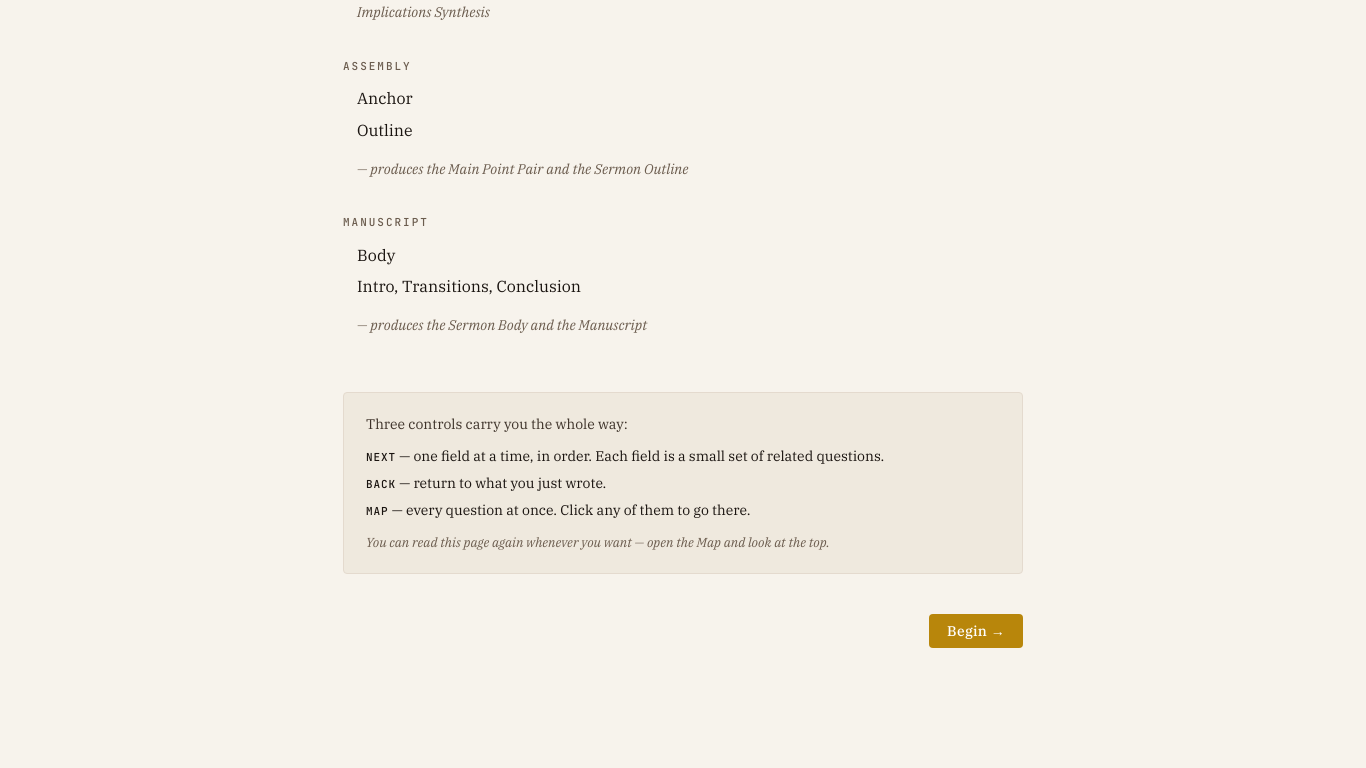
Test case: Track D ⑤ pin — threshold lifecycle › dismissing sermon-start persists thresholds_seen and stays gone on remount (#2)
(page scrolled)
Click the button "Begin →" at (976, 631), box [929,614,1023,648]
Wait 900 ms
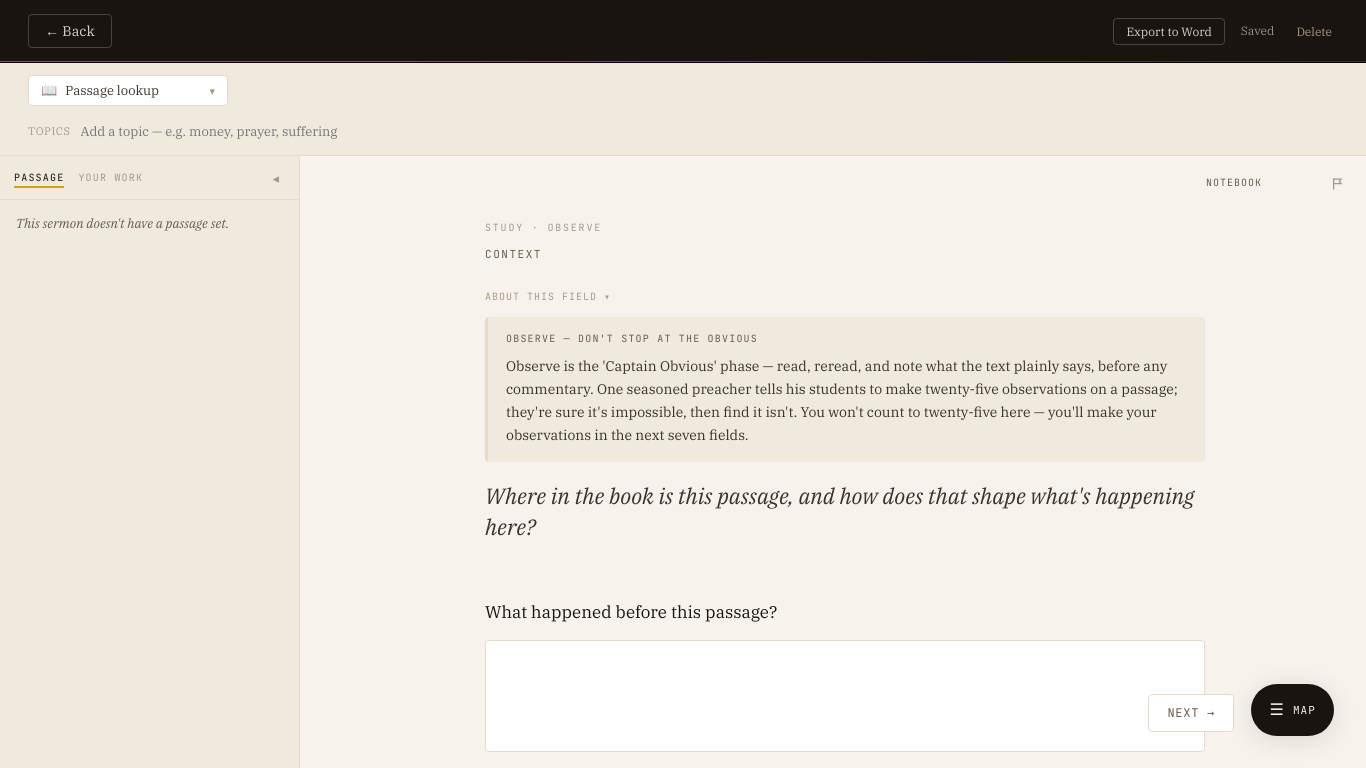
Now the dialog with class "ssl-overlay" is gone
